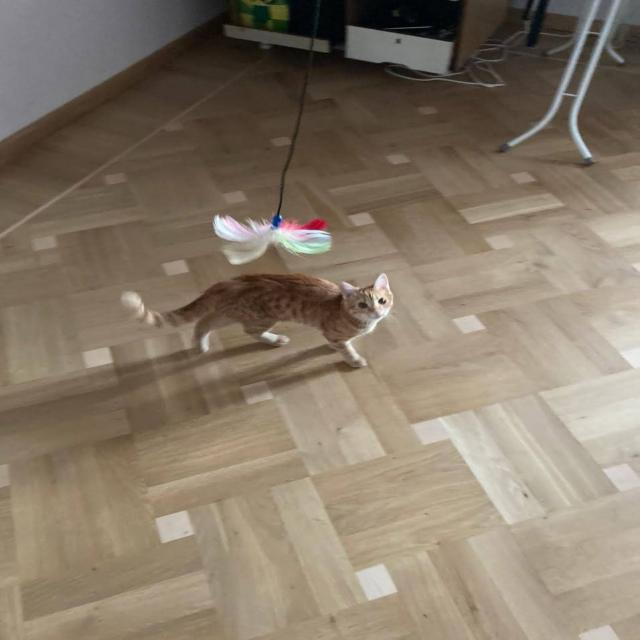red_cat: (110, 263, 404, 365)
